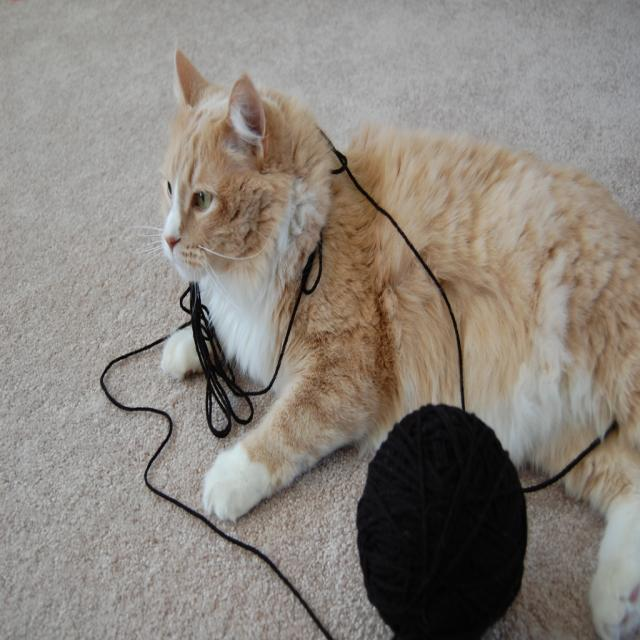Cat: (127, 47, 639, 638)
